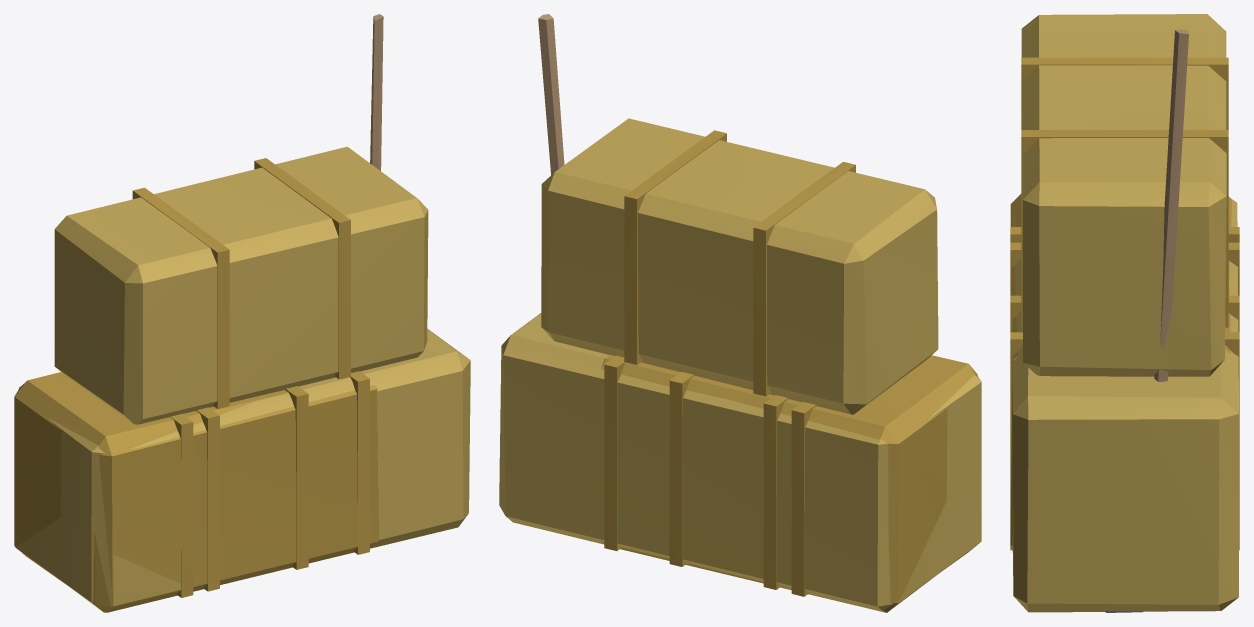
File: barn.hay.glb
3 renders of one model, left to right at view 1: azimuth 30°, elevation 25°; view 2: azimuth 150°, elevation 25°; view 3: azimuth 270°, elevation 25°, orthographic. The views are drawn at different scales.
Parts seen in each view (by area): view 1: barn.hay.v0.mesh, barn.hay.v1.mesh; view 2: barn.hay.v0.mesh, barn.hay.v1.mesh; view 3: barn.hay.v0.mesh, barn.hay.v1.mesh.
Boxes of the visible parts, <box> form: barn.hay.v0.mesh: <box>15,146,470,612</box>; barn.hay.v1.mesh: <box>14,14,383,612</box>; barn.hay.v0.mesh: <box>499,118,981,612</box>; barn.hay.v1.mesh: <box>538,14,977,612</box>; barn.hay.v0.mesh: <box>1010,14,1239,612</box>; barn.hay.v1.mesh: <box>1010,29,1239,546</box>.
Size of the model in its own units: 0.9471 by 1.12 by 0.408.
